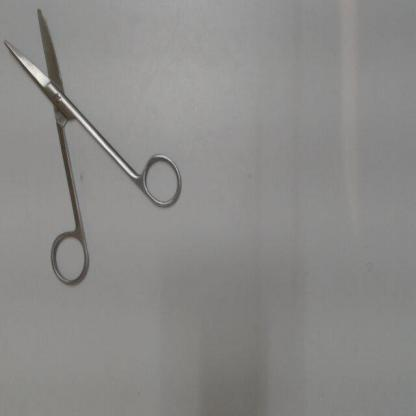Curved Mayo Scissors: (0, 0, 188, 294)
